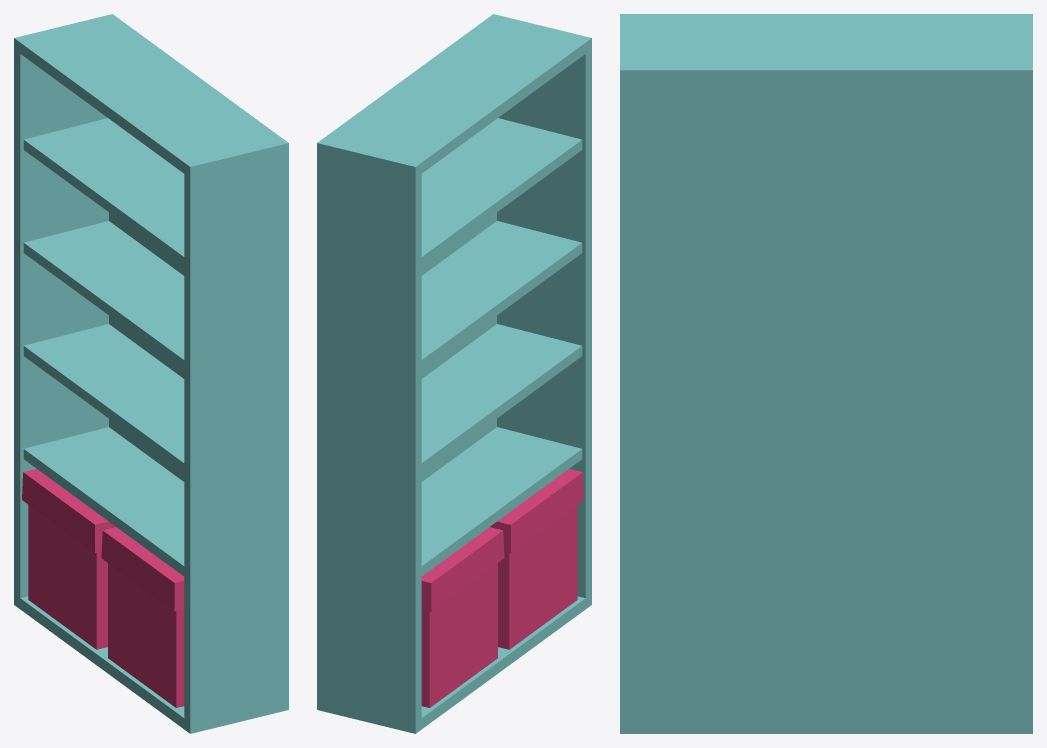
Rendered from furniture_decor_210008.glb.
The picture shows the model from 3 angles, left to right: view 1: azimuth 30°, elevation 25°; view 2: azimuth 150°, elevation 25°; view 3: azimuth 270°, elevation 25°; orthographic projection. The views are drawn at different scales.
Parts seen in each view (by area): view 1: furniture_decor_210008; view 2: furniture_decor_210008; view 3: furniture_decor_210008.
Boxes of the visible parts, x1=… form: furniture_decor_210008: x1=14, y1=14, x2=288, y2=733; furniture_decor_210008: x1=317, y1=14, x2=591, y2=733; furniture_decor_210008: x1=620, y1=14, x2=1032, y2=733.
Size of the model in its own units: 0.3124 by 1.65 by 0.93.
1 material, 1 textured.
